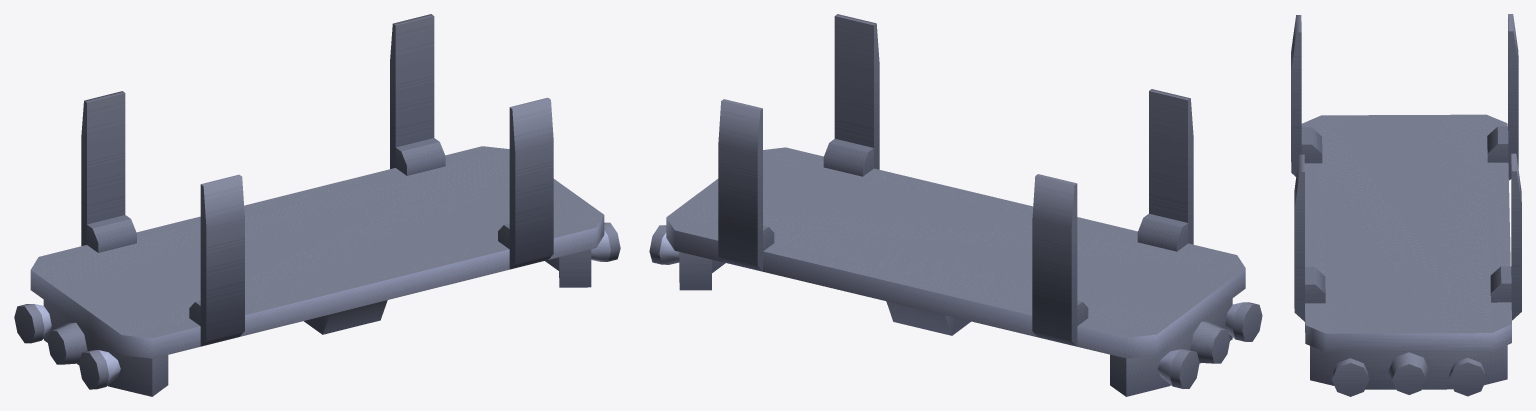
Rendered from train-carriage-flatbed_lev2.glb.
3 renders of one model, left to right at view 1: azimuth 30°, elevation 25°; view 2: azimuth 150°, elevation 25°; view 3: azimuth 270°, elevation 25°, orthographic. The views are drawn at different scales.
Parts seen in each view (by area): view 1: train-carriage-flatbed_lev2; view 2: train-carriage-flatbed_lev2; view 3: train-carriage-flatbed_lev2.
Part boxes in pixels (x1,y1,x2,y2): train-carriage-flatbed_lev2: (14, 14, 620, 396); train-carriage-flatbed_lev2: (649, 14, 1262, 396); train-carriage-flatbed_lev2: (1291, 14, 1521, 396).
Size of the model in its own units: 2.71 by 1 by 1.12.
1 material, 1 textured.
